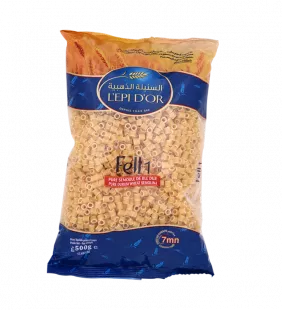L'EPI D'OR: (37, 20, 228, 290)
